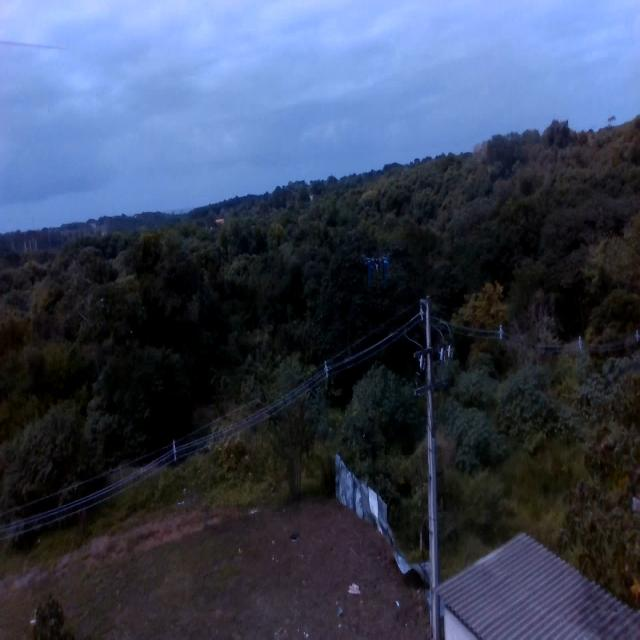-uav-: (351, 240, 404, 305)
